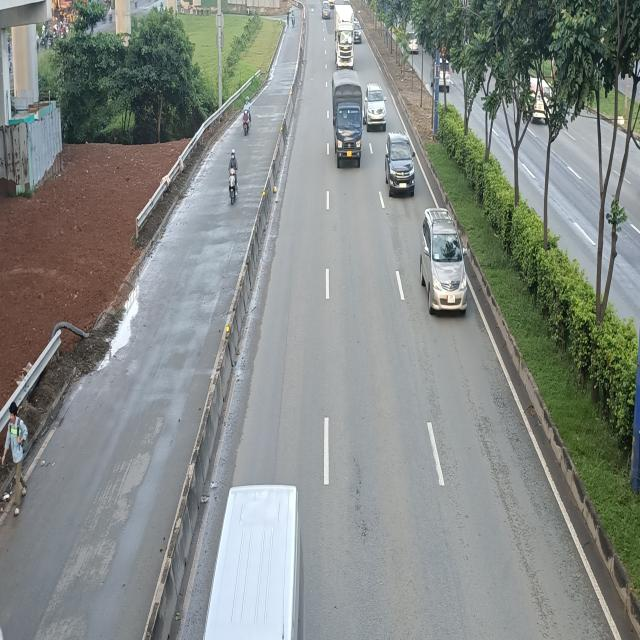car: (420, 209, 467, 318), (386, 136, 418, 199), (365, 84, 388, 131)
container: (335, 4, 355, 70)
truck: (334, 74, 365, 168)
van: (204, 481, 303, 640)
